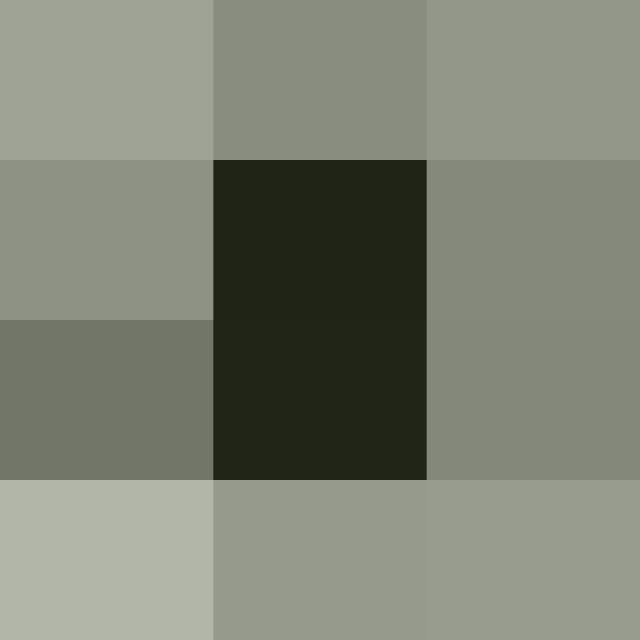.: (27, 0, 639, 640)
